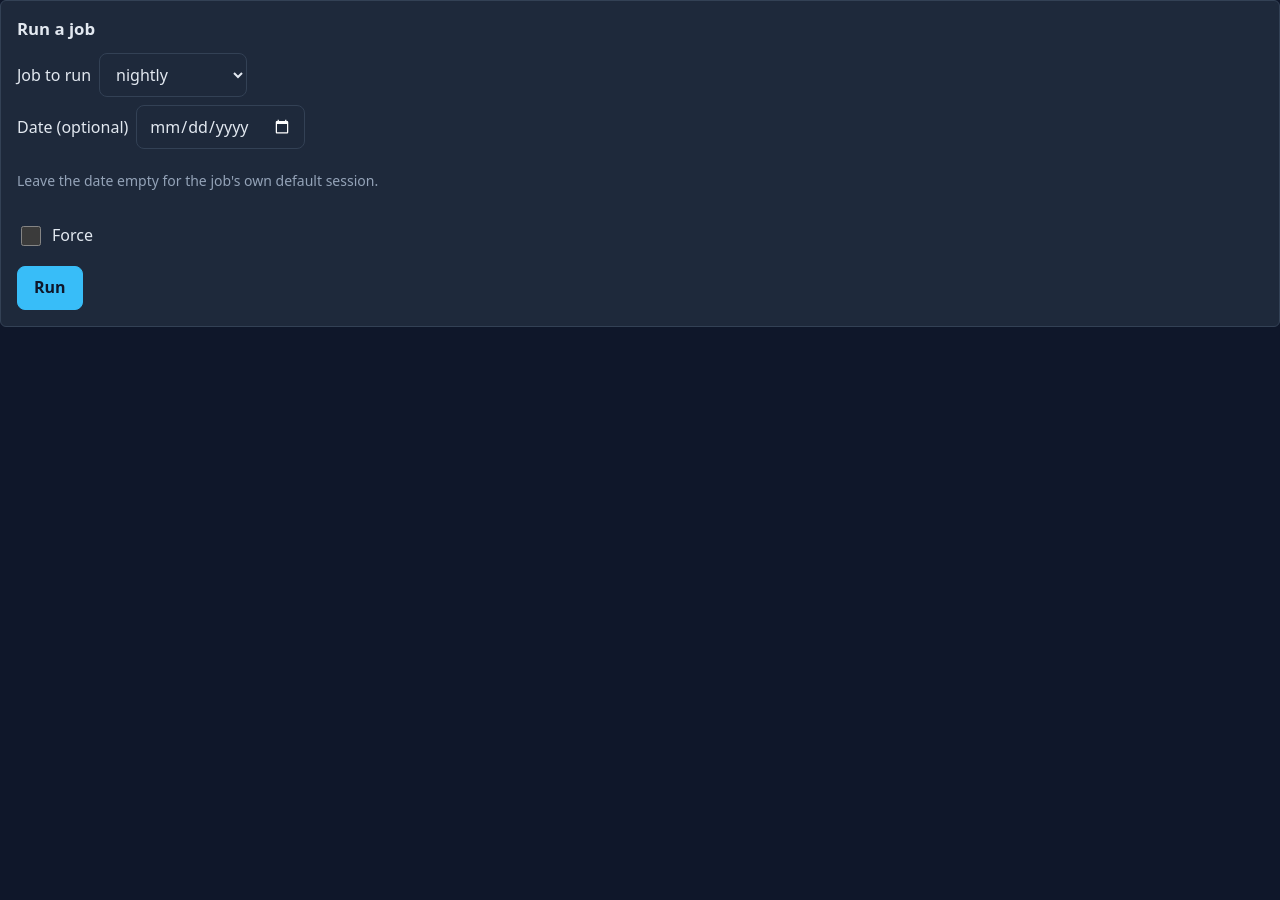
Scenario: RunJob (acceptance test 4) › shows the session date of a dated launch
The image size is (1280, 900).
Click the button "Run". click: (50, 288)
box: 17,266 -> 83,310
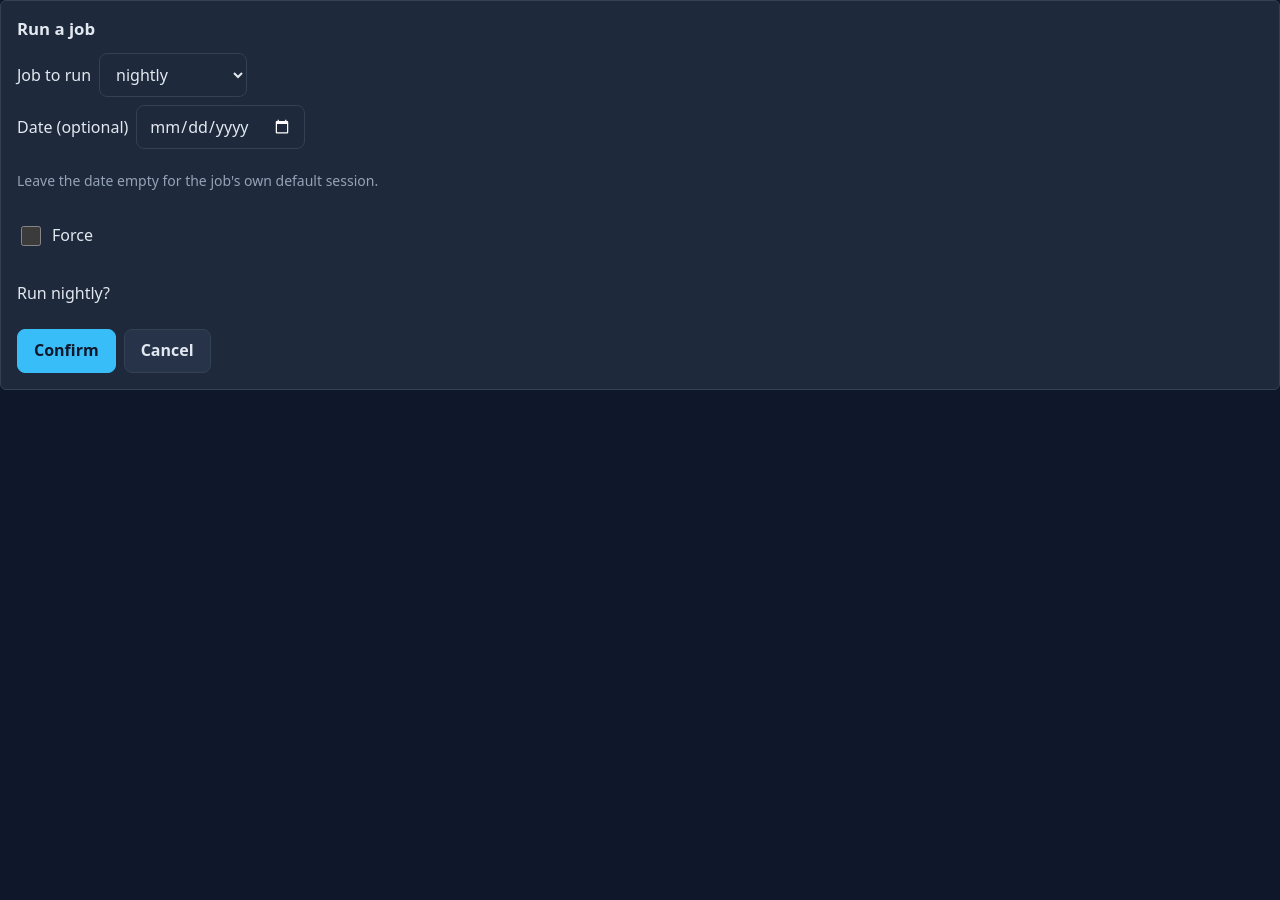
Click the button "Confirm". click: (66, 351)
box: 17,329 -> 116,373
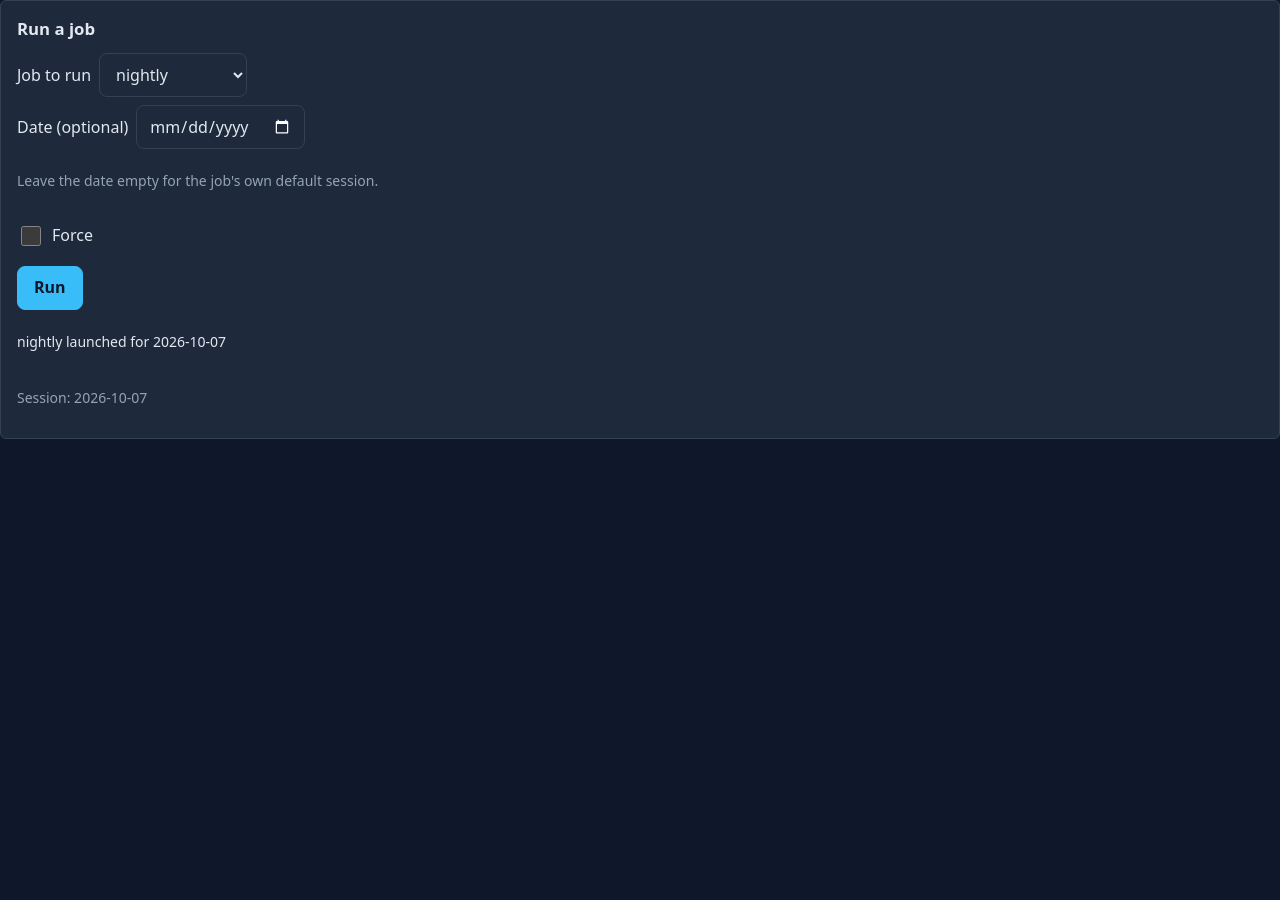
Now the text "Session: 2026-10-07" is shown, box 17,388 -> 147,407
